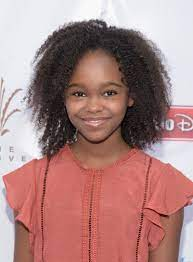person: (31, 19, 164, 147)
